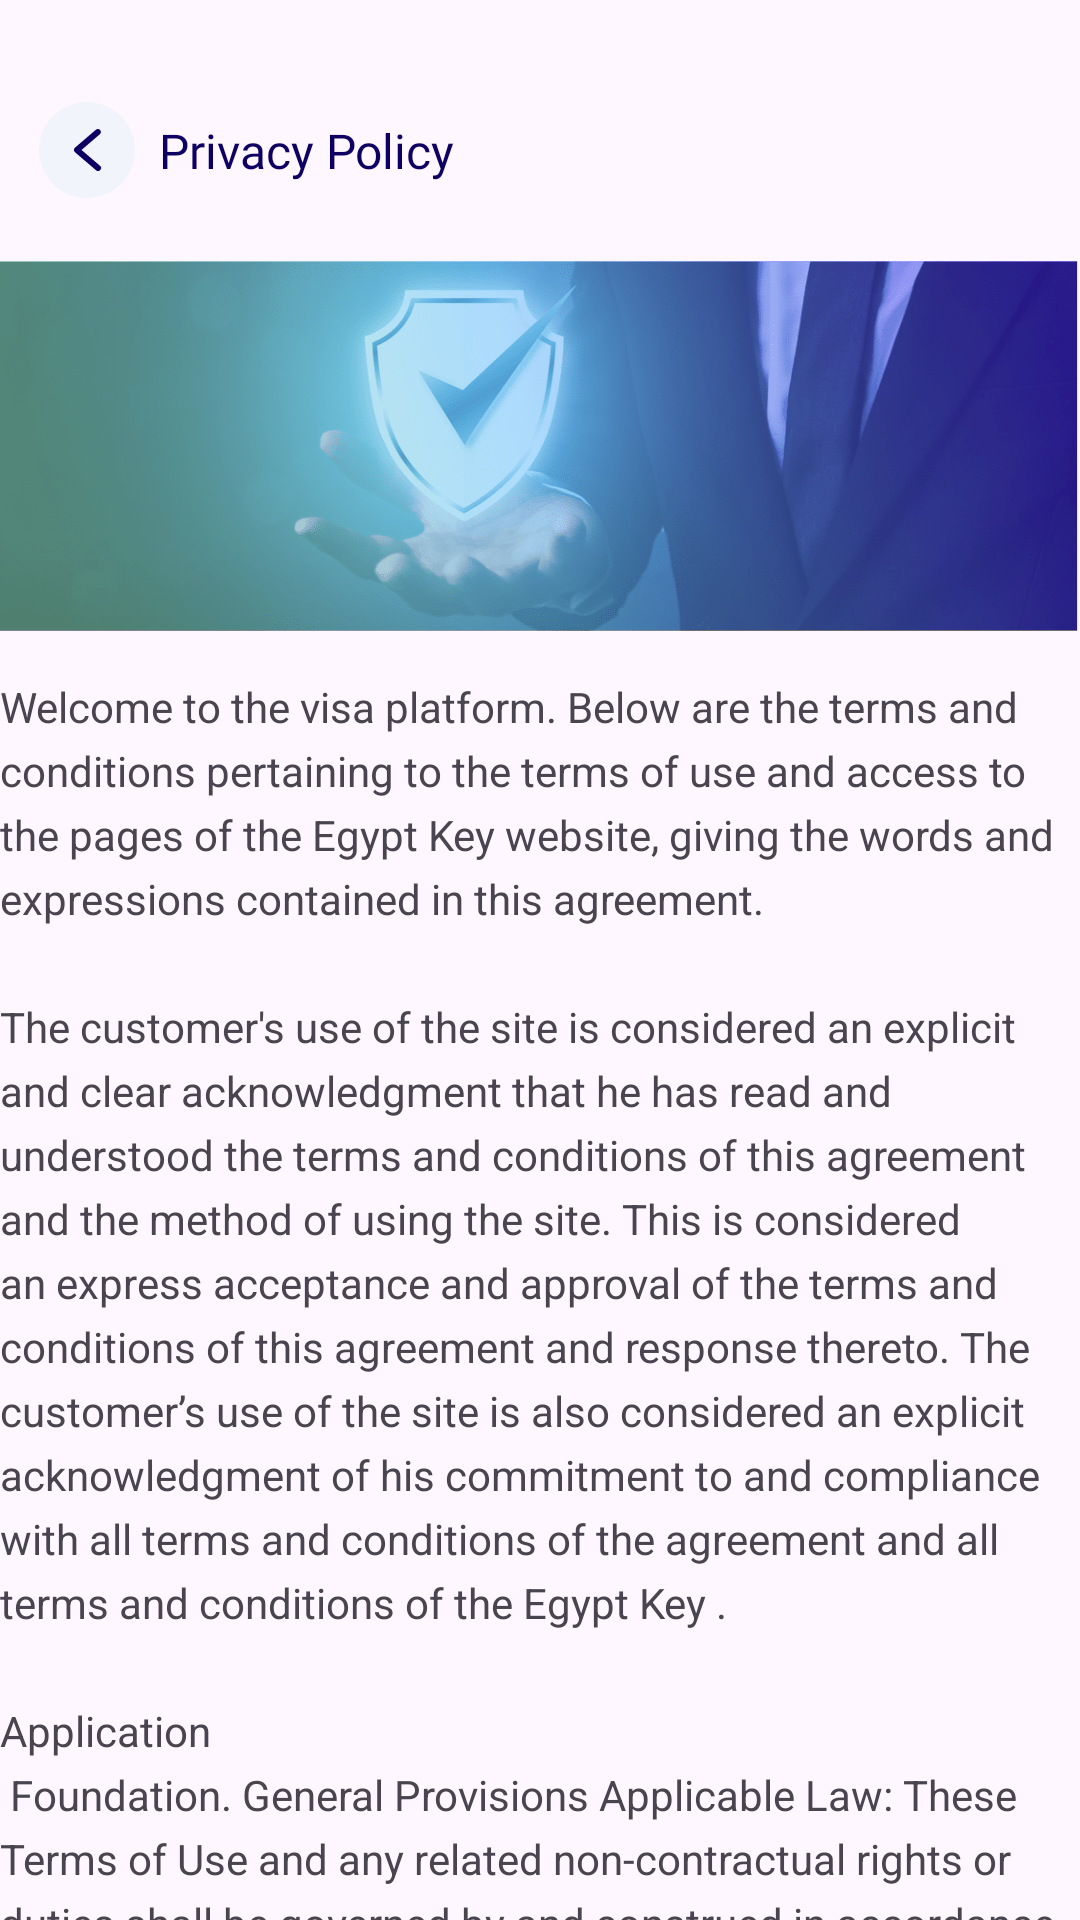

Named icons in this screenshot (1080 × 1920) and their bounding boxes, detection(x1, y1, x2, y2):
arrow back: detection(39, 102, 135, 198)
